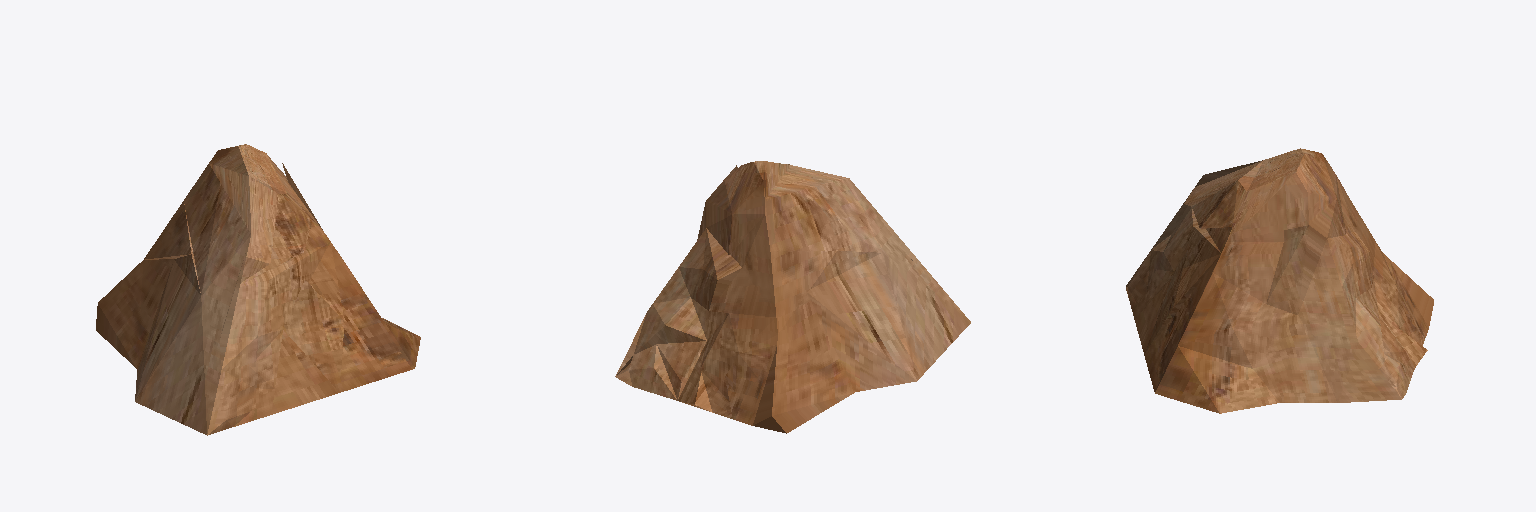
3 views of the same model, side by side, from view 1: azimuth 30°, elevation 25°; view 2: azimuth 150°, elevation 25°; view 3: azimuth 270°, elevation 25° (orthographic).
Parts seen in each view (by area): view 1: Cube; view 2: Cube; view 3: Cube.
Boxes of the visible parts, box(x1,y1,x2,y2) form: Cube: box(96, 144, 420, 435); Cube: box(615, 161, 970, 433); Cube: box(1126, 148, 1433, 413).
Bounding box in the file's own units: 2.71 × 1.99 × 2.68.
1 materials, 1 textured.